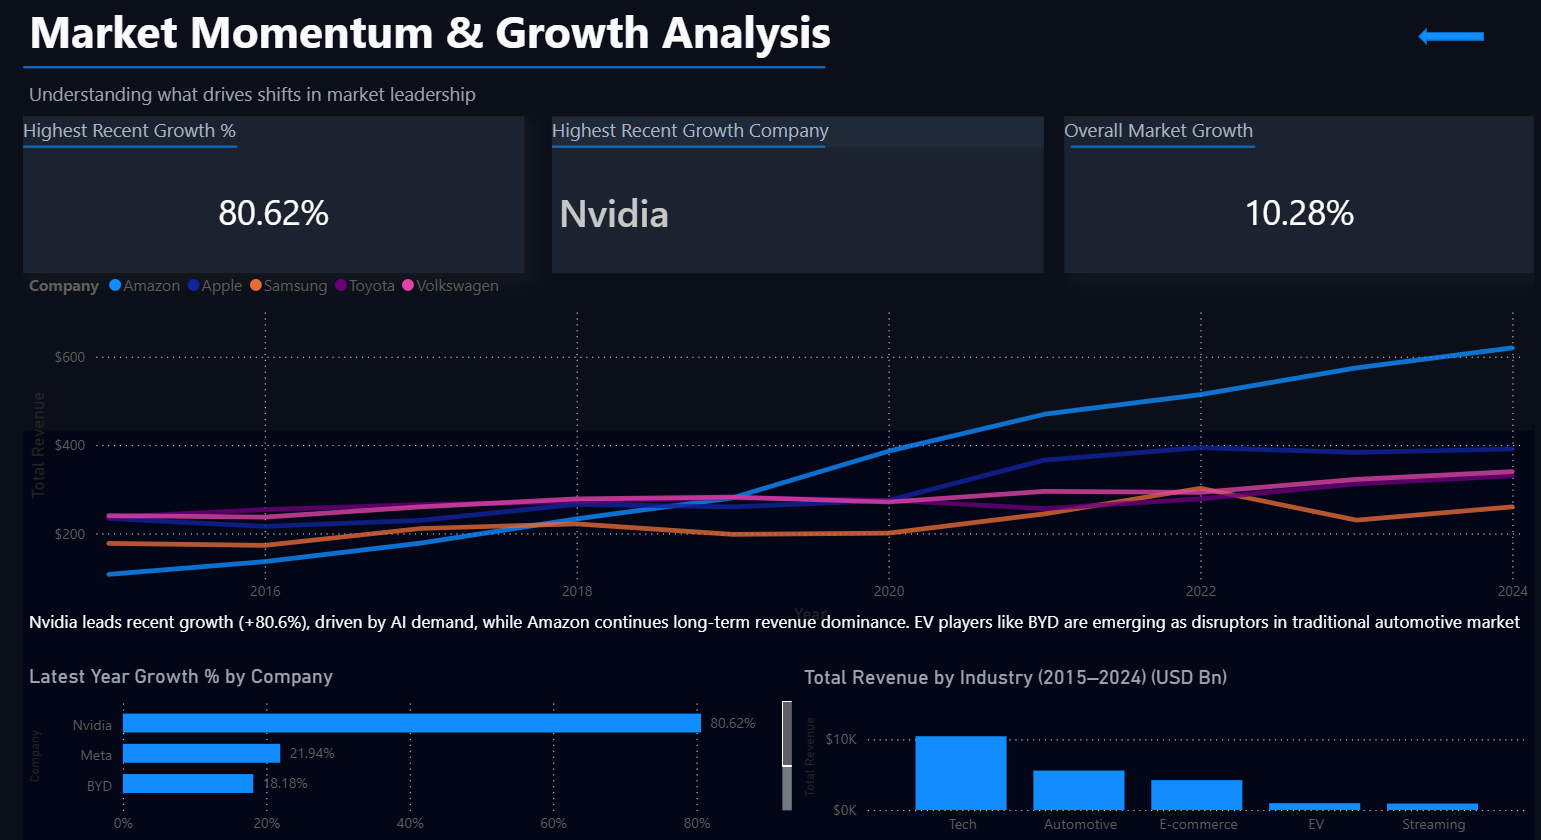

Layout of this report page (visuals, bound fields, positions):
{"tool":"powerbi","page":{"name":"Page 2","canvas":[1280,720],"ordinal":1},"visuals":[{"type":"shape","box":[0,359.7,1280,360.3],"z":0},{"type":"shape","box":[0.5,10,1279.5,359.5],"z":1000},{"type":"textbox","box":[0,0,847.9,109.2],"z":2000},{"type":"kpi","title":"Highest Recent Growth %","fields":{"TrendLine":["MarketData.Company"],"Indicator":["MarketData.Highest Recent Growth %"]},"box":[0,103.1,424.5,132.5],"z":3000},{"type":"shape","box":[0,121.5,181.6,13.5],"z":4000},{"type":"cardVisual","title":"Highest Recent Growth Company","fields":{"Data":["MarketData.Fastest Company (Latest)"]},"box":[447.9,103,417.2,132.5],"z":5000},{"type":"shape","box":[447.9,121.5,231.9,13.5],"z":6000},{"type":"kpi","title":"Overall Market Growth","fields":{"TrendLine":["MarketData.Company"],"Indicator":["MarketData.Overall Market Growth %"]},"box":[882.2,103,397.5,132.5],"z":7000},{"type":"shape","box":[887.1,121.5,157.1,13.5],"z":8000},{"type":"lineChart","fields":{"Category":["MarketData.Year"],"Y":["MarketData.Total Revenue"],"Series":["MarketData.Company"]},"box":[0,225.8,1279.8,311.7],"z":9000},{"type":"clusteredBarChart","fields":{"Category":["MarketData.Company"],"Y":["MarketData.Latest Year Growth %"]},"box":[0,566.9,656.4,153.4],"z":10000},{"type":"clusteredColumnChart","title":"Total Revenue by Industry (2015–2024) (USD Bn)","fields":{"Category":["MarketData.Industry"],"Y":["MarketData.Total Revenue"]},"box":[656,567,624,153],"z":11000},{"type":"shape","box":[0,55.2,679.8,12.3],"z":12000},{"type":"textbox","box":[0,515.3,1279.8,42.9],"z":12001},{"type":"shape","box":[1182,27,56,15],"z":12002}]}

Visuals, with their boxes on the page's 1280x720 design canvas (x1, y1, x2, y2). These are canvas units, not pixel positions in the 1541x840 screenshot, which may show the page scaled, cropped or inside an application window:
shape: (left=0, top=360, right=1280, bottom=720)
shape: (left=0, top=10, right=1280, bottom=370)
textbox: (left=0, top=0, right=848, bottom=109)
"Highest Recent Growth %" kpi: (left=0, top=103, right=424, bottom=236)
shape: (left=0, top=122, right=182, bottom=135)
"Highest Recent Growth Company" cardVisual: (left=448, top=103, right=865, bottom=236)
shape: (left=448, top=122, right=680, bottom=135)
"Overall Market Growth" kpi: (left=882, top=103, right=1280, bottom=236)
shape: (left=887, top=122, right=1044, bottom=135)
lineChart - MarketData.Year x MarketData.Total Revenue: (left=0, top=226, right=1280, bottom=538)
clusteredBarChart - MarketData.Company x MarketData.Latest Year Growth %: (left=0, top=567, right=656, bottom=720)
"Total Revenue by Industry (2015–2024) (USD Bn)" clusteredColumnChart: (left=656, top=567, right=1280, bottom=720)
shape: (left=0, top=55, right=680, bottom=68)
textbox: (left=0, top=515, right=1280, bottom=558)
shape: (left=1182, top=27, right=1238, bottom=42)
